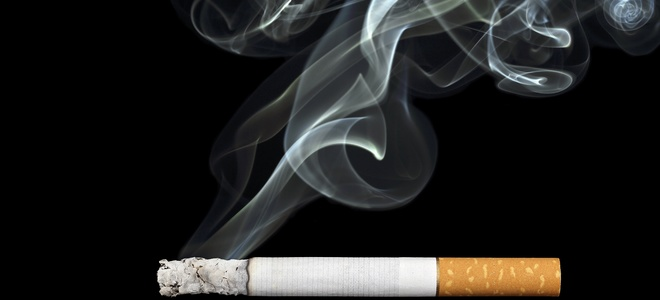cigarette: (141, 252, 591, 300)
